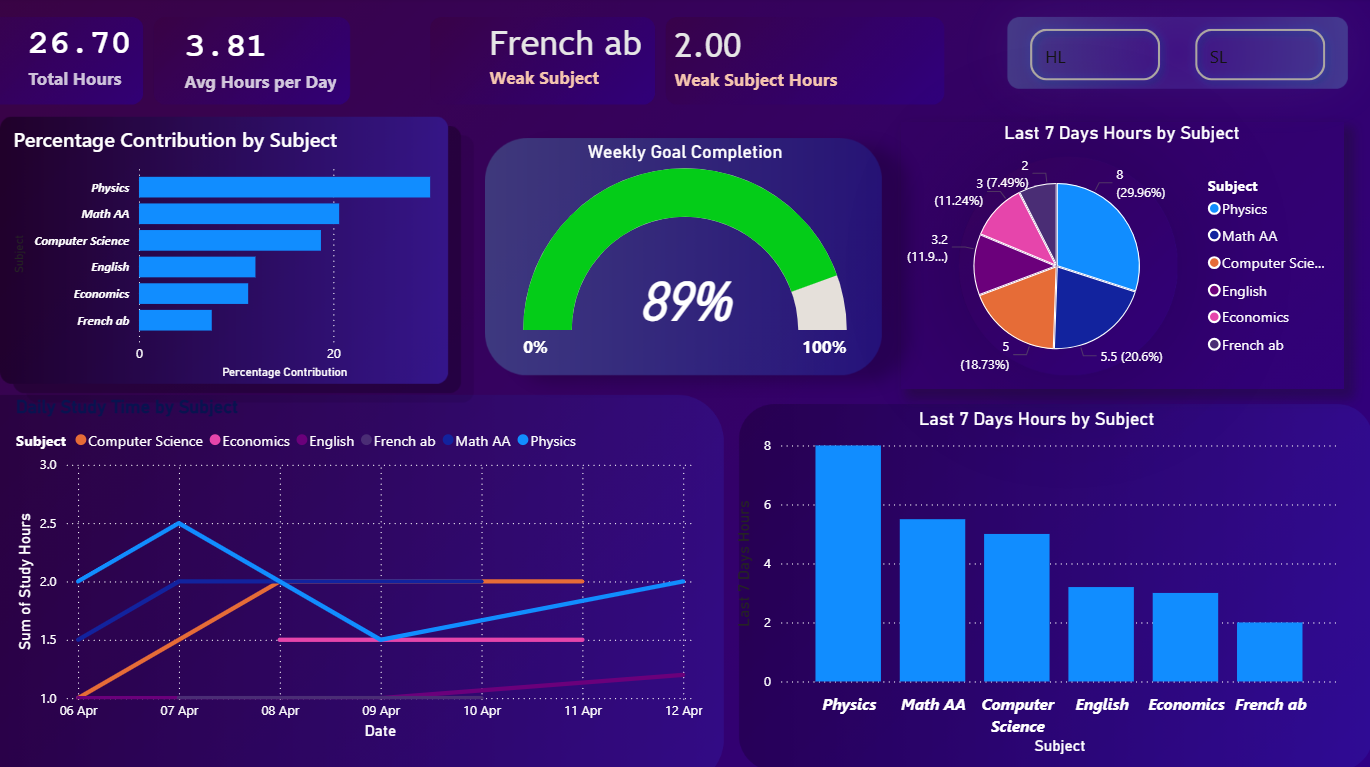

Layout of this report page (visuals, bound fields, positions):
{"tool":"powerbi","page":{"name":"Page 1","canvas":[1280,720],"ordinal":0},"visuals":[{"type":"lineChart","title":"Daily Study Time by Subject","fields":{"Y":["Sum(StudyData.Study Hours)"],"Series":["StudyData.Subject"],"Category":["StudyData.Date"]},"box":[12.5,371.2,648.8,325],"z":0},{"type":"pieChart","fields":{"Category":["StudyData.Subject"],"Y":["StudyData.Last 7 Days Hours"]},"box":[840.7,116.3,411.6,247.7],"z":1000},{"type":"advancedSlicerVisual","fields":{"Values":["StudyData.Level"]},"box":[944.3,12.9,308.6,82.9],"z":2000},{"type":"cardVisual","title":"Total Hours","fields":{"Data":["StudyData.Total Hours"]},"box":[0,3.8,160,105],"z":3000},{"type":"cardVisual","fields":{"Data":["StudyData.Avg Hours per Day"]},"box":[145.3,7,201.2,103.5],"z":4000},{"type":"gauge","title":"Weekly Goal Completion","fields":{"Y":["StudyData.Goal %"]},"box":[474.3,134.3,331.4,212.9],"z":5000},{"type":"cardVisual","fields":{"Data":["StudyData.Weak Subject"]},"box":[429.1,0,201.2,109.3],"z":6000},{"type":"cardVisual","fields":{"Data":["StudyData.Weak Subject Hours"]},"box":[601.2,5.8,305.8,100],"z":7000},{"type":"clusteredBarChart","fields":{"Category":["StudyData.Subject"],"Y":["StudyData.Percentage Contribution"]},"box":[11,120,405,240],"z":8000},{"type":"clusteredColumnChart","fields":{"Category":["StudyData.Subject"],"Y":["StudyData.Last 7 Days Hours"]},"box":[681.4,382.9,571.4,327.1],"z":9000}]}

Visuals, with their boxes in screenshot pixels (x1, y1, x2, y2), scaled from the page's 1280x720 canvas onto the 1370x767 screenshot:
"Daily Study Time by Subject" lineChart: box(13, 395, 708, 742)
pieChart - StudyData.Subject x StudyData.Last 7 Days Hours: box(900, 124, 1340, 388)
advancedSlicerVisual - StudyData.Level: box(1011, 14, 1341, 102)
"Total Hours" cardVisual: box(0, 4, 171, 116)
cardVisual - StudyData.Avg Hours per Day: box(156, 7, 371, 118)
"Weekly Goal Completion" gauge: box(508, 143, 862, 370)
cardVisual - StudyData.Weak Subject: box(459, 0, 675, 116)
cardVisual - StudyData.Weak Subject Hours: box(643, 6, 971, 113)
clusteredBarChart - StudyData.Subject x StudyData.Percentage Contribution: box(12, 128, 445, 384)
clusteredColumnChart - StudyData.Subject x StudyData.Last 7 Days Hours: box(729, 408, 1341, 756)
